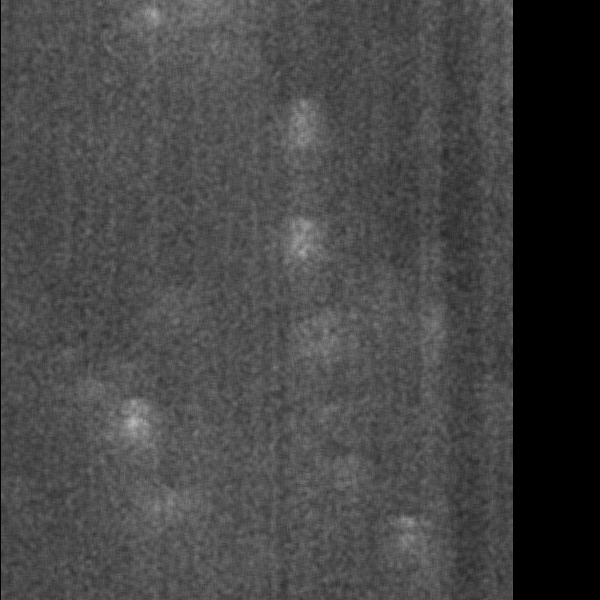spark: (106, 392, 148, 478), (387, 512, 431, 590), (279, 93, 323, 161), (281, 209, 311, 271), (137, 5, 174, 28)
